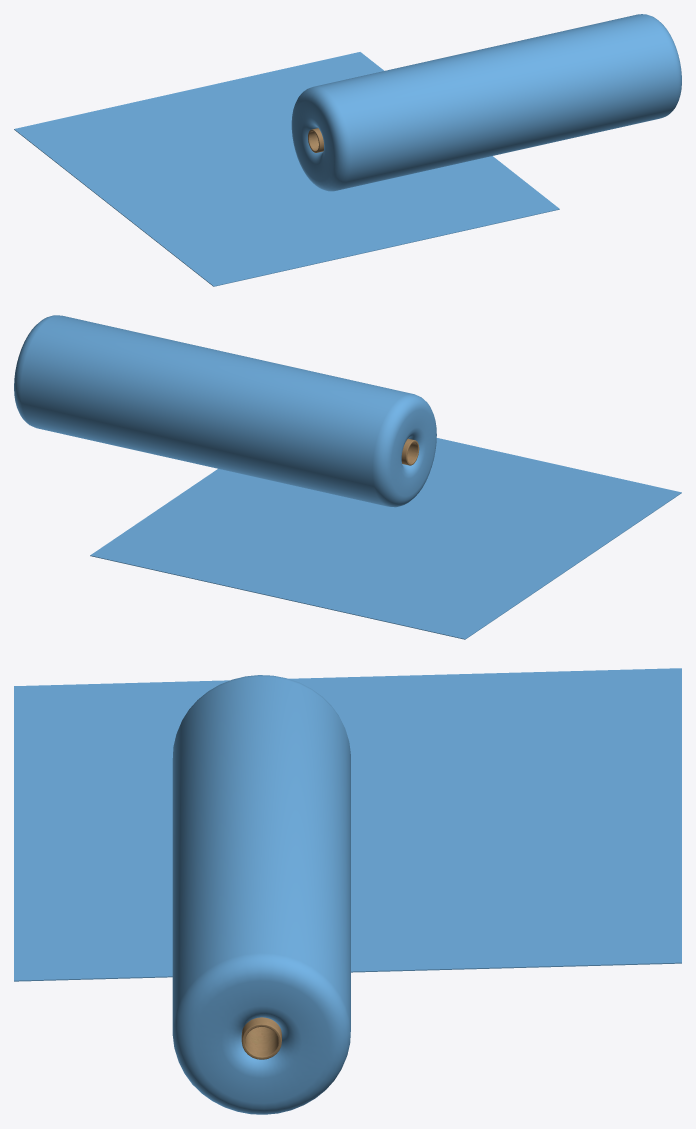
The model's file is SER-AND-004_anim.glb.
3 views of the same model, one above another, from view 1: azimuth 30°, elevation 25°; view 2: azimuth 150°, elevation 25°; view 3: azimuth 270°, elevation 25° (orthographic). The views are drawn at different scales.
Visible parts, largest first — view 1: SER-AND-004_anim0; view 2: SER-AND-004_anim0; view 3: SER-AND-004_anim0.
Boxes of the visible parts, bbox=[...] form: SER-AND-004_anim0: bbox=[14, 14, 681, 286]; SER-AND-004_anim0: bbox=[14, 315, 681, 639]; SER-AND-004_anim0: bbox=[14, 668, 681, 1114].
Size of the model in its own units: 1.81 by 0.3446 by 1.2.
2 materials, 1 textured.
